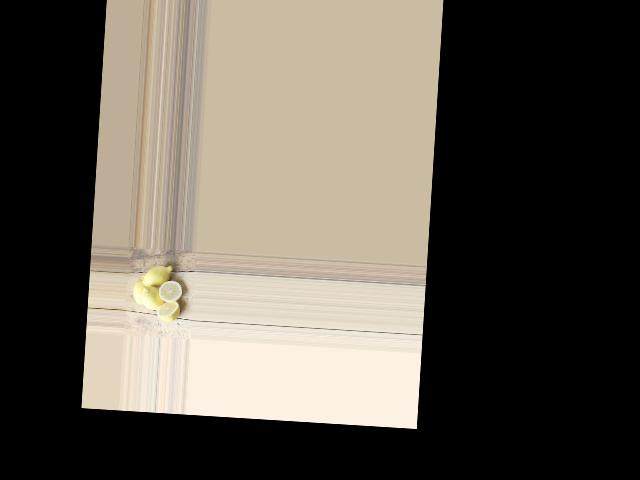lemon: (140, 261, 174, 288)
